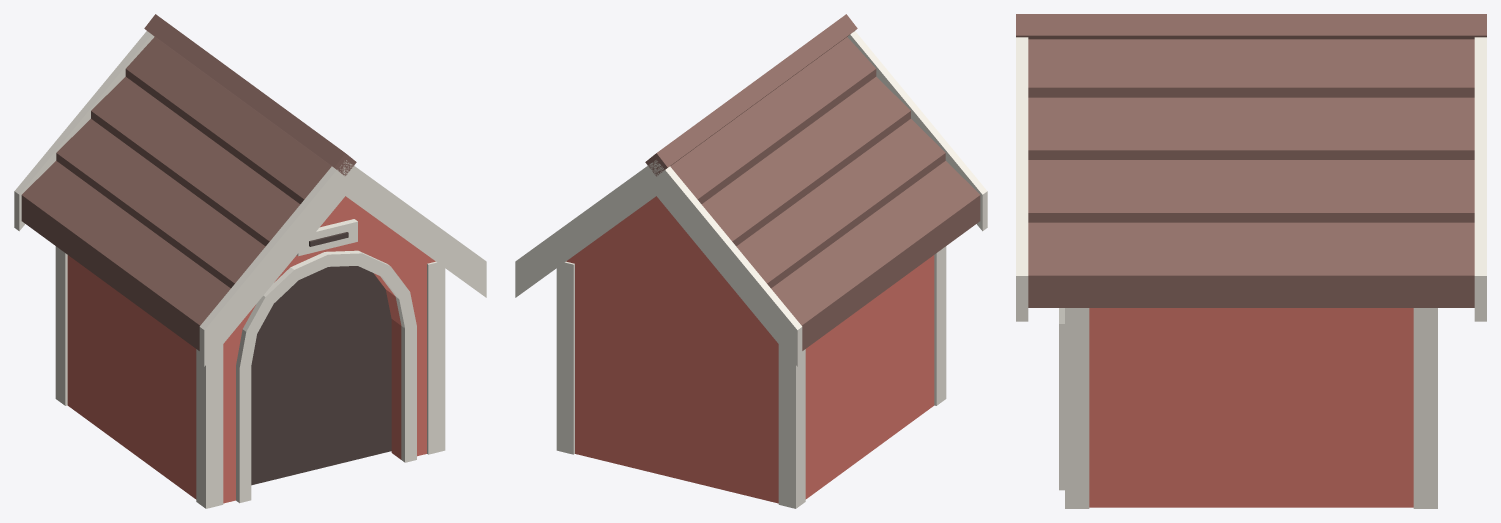
File: dog-house.glb
3 renders of one model, left to right at view 1: azimuth 30°, elevation 25°; view 2: azimuth 150°, elevation 25°; view 3: azimuth 270°, elevation 25°, orthographic. The views are drawn at different scales.
Visible parts, largest first — view 1: roof_R, door_hole, wall_R, rake_F, wall_front, door_frame, ridge_cap, corner_FR, corner_FL, rake_B, corner_BR, name_plate; view 2: roof_R, wall_back, wall_R, rake_B, ridge_cap, corner_BR, corner_BL, rake_F, corner_FR; view 3: roof_L, wall_L, ridge_cap, corner_FL, corner_BL, rake_F, rake_B, door_frame, wall_front, wall_back.
Boxes of the visible parts, x1,y1,x2,y2 form: roof_R: (21,37,331,350); door_hole: (251,266,391,485); wall_R: (68,256,196,499); rake_F: (199,160,486,366); wall_front: (223,196,435,503); door_frame: (236,250,416,503); ridge_cap: (144,14,356,175); corner_FR: (196,344,223,508); corner_FL: (427,261,445,454); rake_B: (14,31,154,231); corner_BR: (55,246,67,405); name_plate: (297,219,357,256); roof_R: (670,37,980,350); wall_back: (566,196,778,503); wall_R: (805,256,933,499); rake_B: (515,160,802,366); ridge_cap: (645,14,857,176); corner_BR: (778,344,805,508); corner_BL: (556,261,574,454); rake_F: (847,31,987,231); corner_FR: (934,246,946,405); roof_L: (1028,39,1474,307); wall_L: (1092,308,1410,507); ridge_cap: (1016,14,1486,39); corner_FL: (1065,308,1089,508); corner_BL: (1413,308,1437,508); rake_F: (1016,37,1028,321); rake_B: (1474,37,1486,321); door_frame: (1059,308,1064,490); wall_front: (1089,308,1092,507); wall_back: (1410,308,1413,507).
Bounding box in the file's own units: 1.32 × 1.53 × 1.54.
